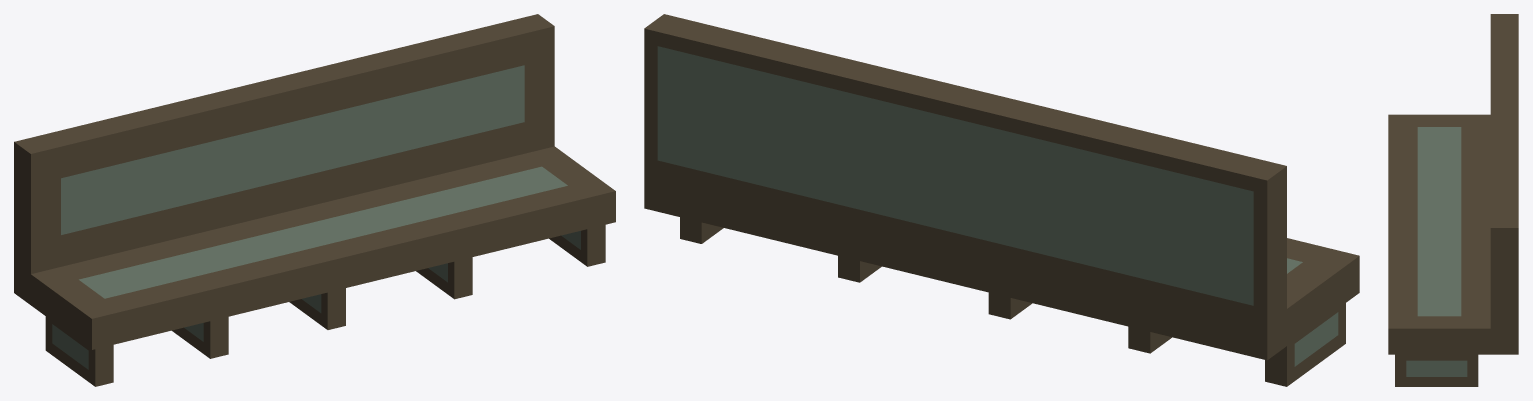
Rendered from bench2.FBX.
3 views of the same model, side by side, from view 1: azimuth 30°, elevation 25°; view 2: azimuth 150°, elevation 25°; view 3: azimuth 270°, elevation 25° (orthographic). The views are drawn at different scales.
Visible parts, largest first — view 1: bench2; view 2: bench2; view 3: bench2.
Part boxes in pixels (box(x1,y1,x2,y2)): bench2: box(14, 14, 615, 386); bench2: box(644, 14, 1359, 386); bench2: box(1388, 14, 1518, 386).
Bounding box in the file's own units: 4.98 × 1.75 × 1.28.
